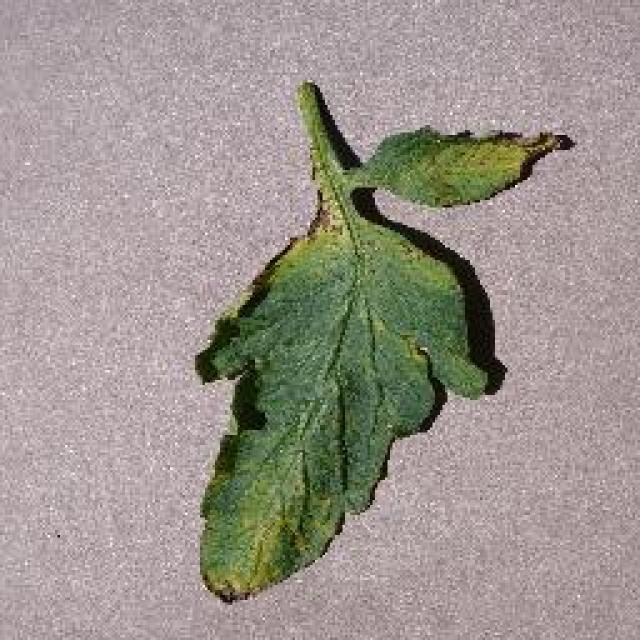Tomato___Septoria_leaf_spot: (195, 82, 558, 600)
